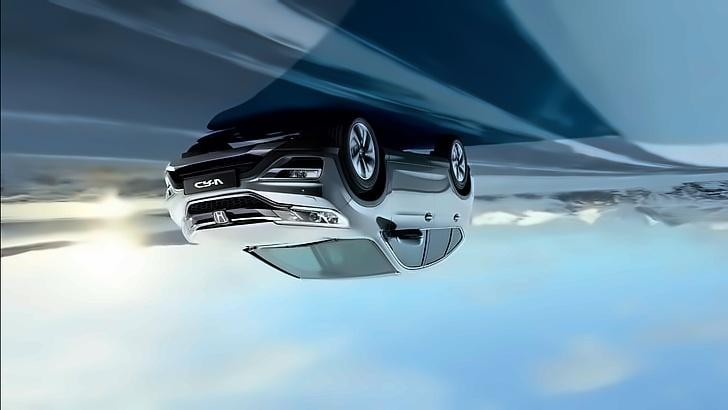Car hood: (181, 224, 353, 253)
Driver-s door - -F-R-: (384, 159, 433, 274)
Fender - -F-R-: (340, 154, 391, 239)
Fender - -R-R-: (457, 188, 476, 233)
Front bumper: (151, 135, 355, 195)
Headlight - -L-: (174, 207, 206, 251)
Headlight - -R-: (269, 202, 342, 229)
Passenger-s door - -R-R-: (429, 167, 462, 276)
Rear bumper: (459, 165, 482, 199)
Side bumper - -R-: (377, 144, 454, 177)
Side mirror - -R-: (387, 219, 427, 248)
